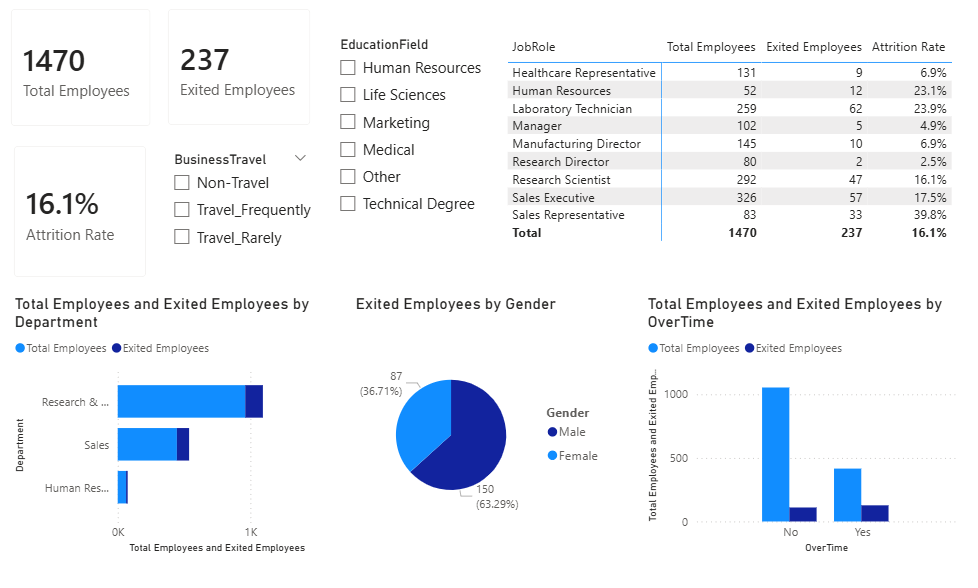

The dashboard page shown, as its layout file describes it:
{"tool":"powerbi","page":{"name":"Page 1","canvas":[1280,720],"ordinal":0},"visuals":[{"type":"cardVisual","fields":{"Data":["_Calculated Measures.Total Employees"]},"box":[15.5,16.5,183.1,159.9],"z":0},{"type":"barChart","fields":{"Category":["WA_Fn-UseC_-HR-Employee-Attrition.Department"],"Y":["_Calculated Measures.Total Employees","_Calculated Measures.Exited Employees"]},"box":[32,337.3,339.5,281.8],"z":1000},{"type":"cardVisual","fields":{"Data":["_Calculated Measures.Exited Employees"]},"box":[184.1,16.5,186,158.9],"z":2000},{"type":"cardVisual","fields":{"Data":["_Calculated Measures.Attrition Rate"]},"box":[19.4,162.8,175.4,174.4],"z":3000},{"type":"pieChart","fields":{"Category":["WA_Fn-UseC_-HR-Employee-Attrition.Gender"],"Y":["_Calculated Measures.Exited Employees"]},"box":[396.1,337.3,279.7,281.8],"z":4000},{"type":"pivotTable","fields":{"Rows":["WA_Fn-UseC_-HR-Employee-Attrition.JobRole"],"Values":["_Calculated Measures.Total Employees","_Calculated Measures.Exited Employees","_Calculated Measures.Attrition Rate"]},"box":[558.1,57.2,510.6,266.5],"z":5000},{"type":"slicer","fields":{"Values":["WA_Fn-UseC_-HR-Employee-Attrition.BusinessTravel"]},"box":[193.8,180.2,166.7,139.5],"z":5001},{"type":"slicer","fields":{"Values":["WA_Fn-UseC_-HR-Employee-Attrition.EducationField"]},"box":[369.4,60.9,186.8,238.1],"z":5002},{"type":"clusteredColumnChart","fields":{"Category":["WA_Fn-UseC_-HR-Employee-Attrition.OverTime"],"Y":["_Calculated Measures.Total Employees","_Calculated Measures.Exited Employees"]},"box":[707.8,337.3,339.5,281.8],"z":5003}]}

Visuals, with their boxes on the page's 1280x720 design canvas (x1, y1, x2, y2). These are canvas units, not pixel positions in the 978x588 screenshot, which may show the page scaled, cropped or inside an application window:
cardVisual - _Calculated Measures.Total Employees: BBox(16, 16, 199, 176)
barChart - WA_Fn-UseC_-HR-Employee-Attrition.Department x _Calculated Measures.Total Employees: BBox(32, 337, 372, 619)
cardVisual - _Calculated Measures.Exited Employees: BBox(184, 16, 370, 175)
cardVisual - _Calculated Measures.Attrition Rate: BBox(19, 163, 195, 337)
pieChart - WA_Fn-UseC_-HR-Employee-Attrition.Gender x _Calculated Measures.Exited Employees: BBox(396, 337, 676, 619)
pivotTable - WA_Fn-UseC_-HR-Employee-Attrition.JobRole x _Calculated Measures.Total Employees: BBox(558, 57, 1069, 324)
slicer - WA_Fn-UseC_-HR-Employee-Attrition.BusinessTravel: BBox(194, 180, 360, 320)
slicer - WA_Fn-UseC_-HR-Employee-Attrition.EducationField: BBox(369, 61, 556, 299)
clusteredColumnChart - WA_Fn-UseC_-HR-Employee-Attrition.OverTime x _Calculated Measures.Total Employees: BBox(708, 337, 1047, 619)
